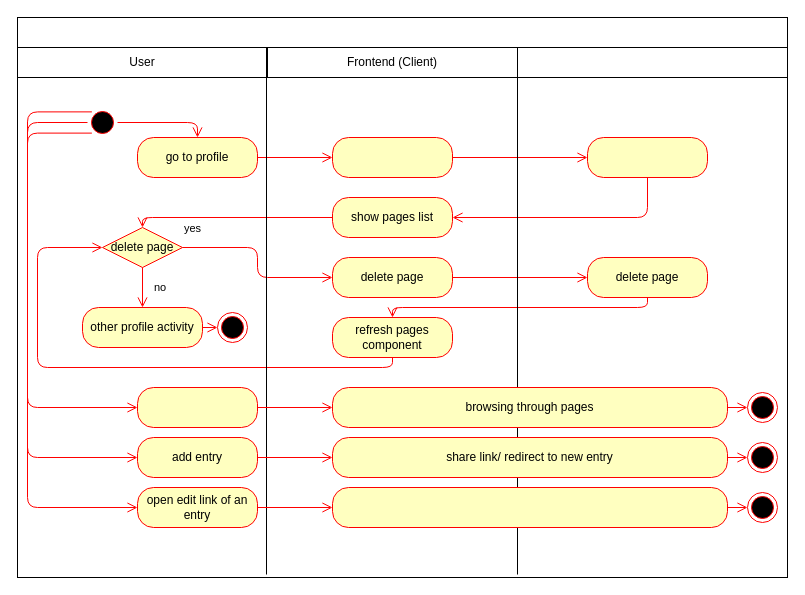
Image size: 805x595. Some labels were removed from this diagram. Here are the shapes that lost their labels. From the top down, the centre of each, then its label:
At point (402, 32): "Manage Page".
At point (652, 62): "Backend (Server)".
At point (392, 157): "load user pages within a component".
At point (647, 157): "load user pages".
At point (197, 407): "go to friendship book".
At point (530, 507): "edit a page".
